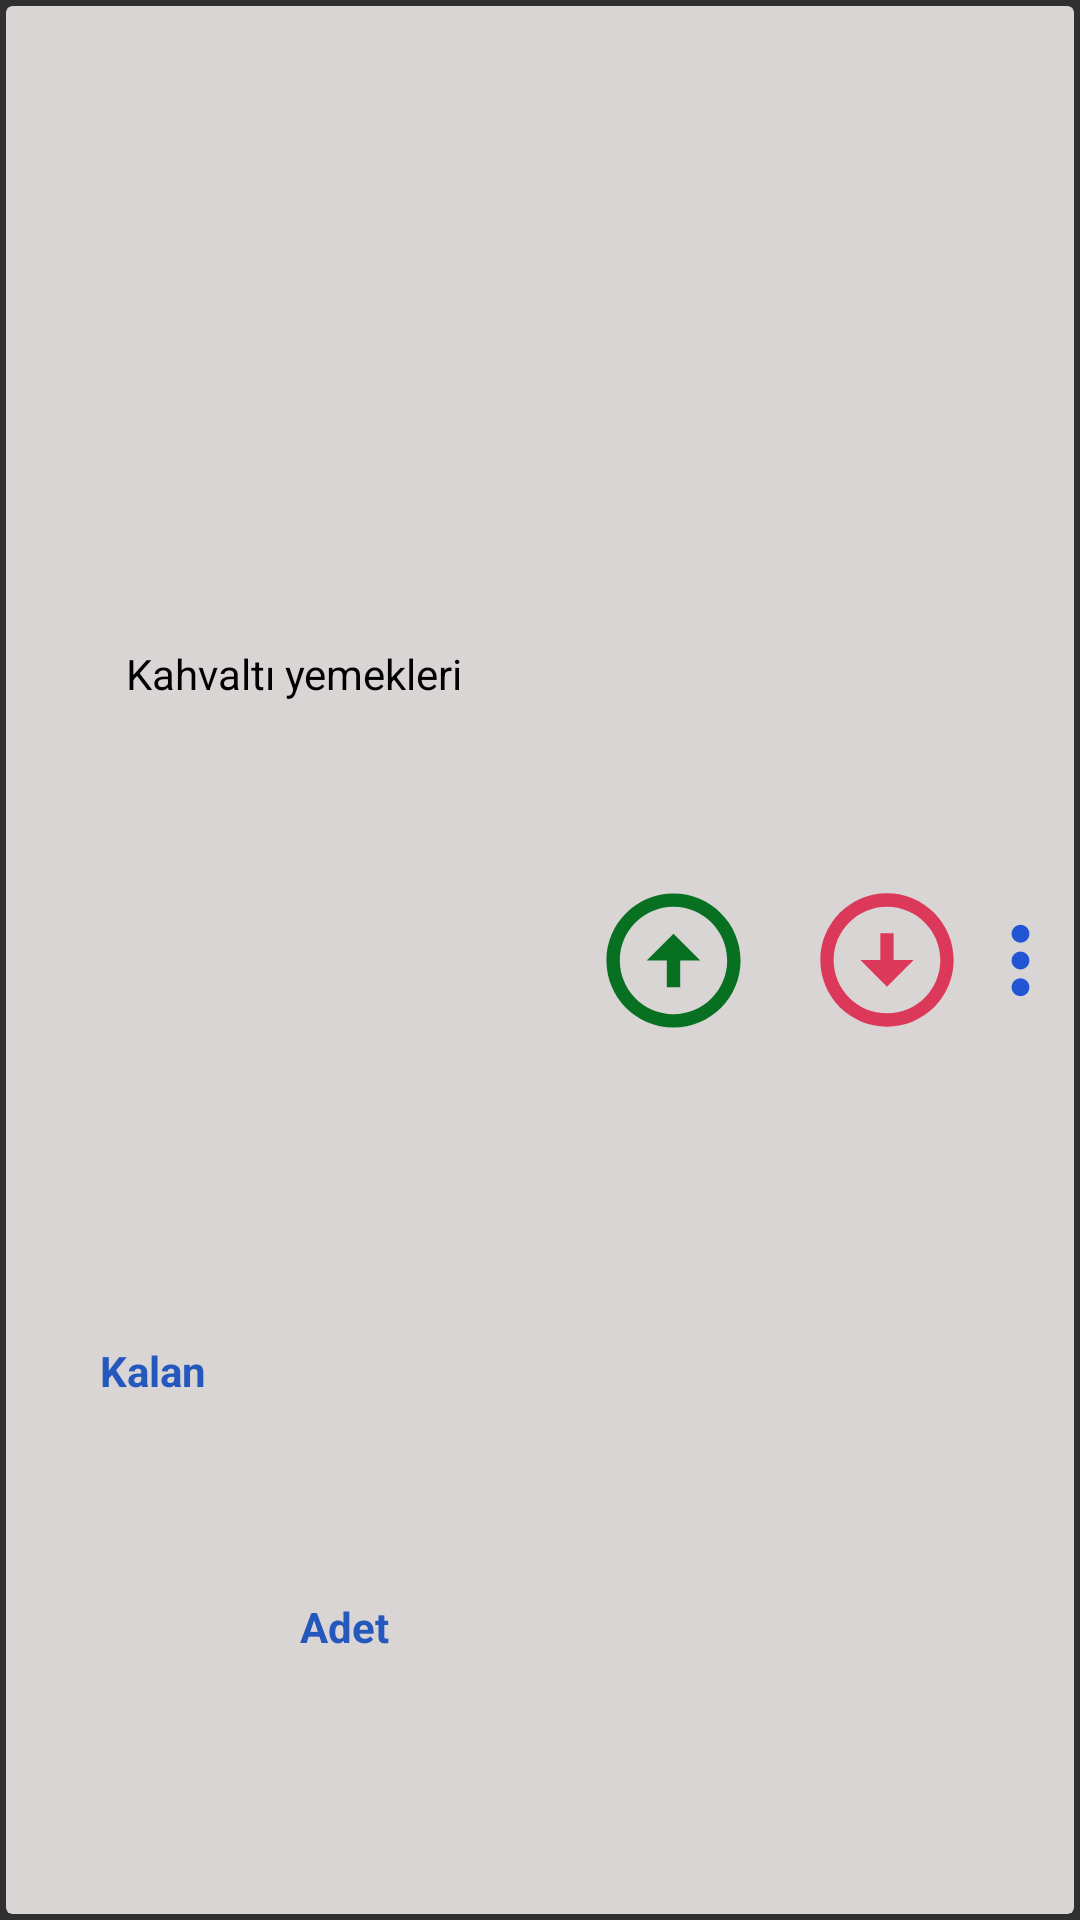

Named icons in this screenshot (1080×1920) and their bounding boxes, (x1, y1, x2, y2):
arrow circle down: (820, 893, 954, 1027)
arrow circle up: (606, 893, 741, 1028)
more vert: (1011, 924, 1030, 997)
